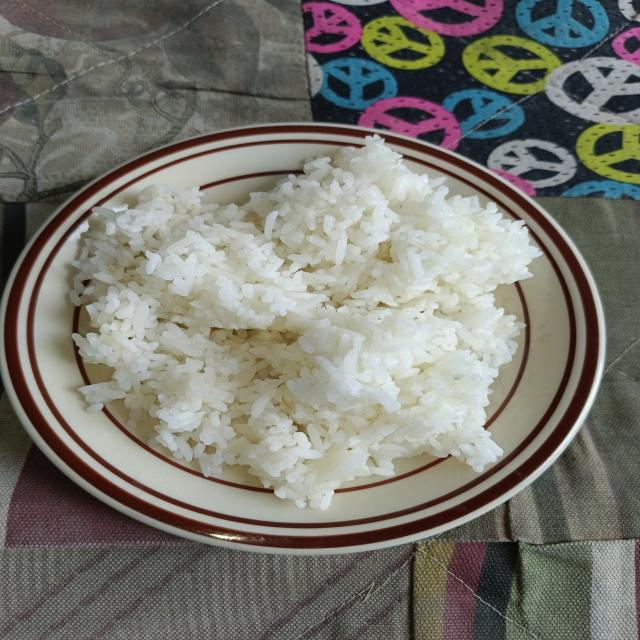Chicken -Chicken Inasal-: (105, 157, 490, 460)
